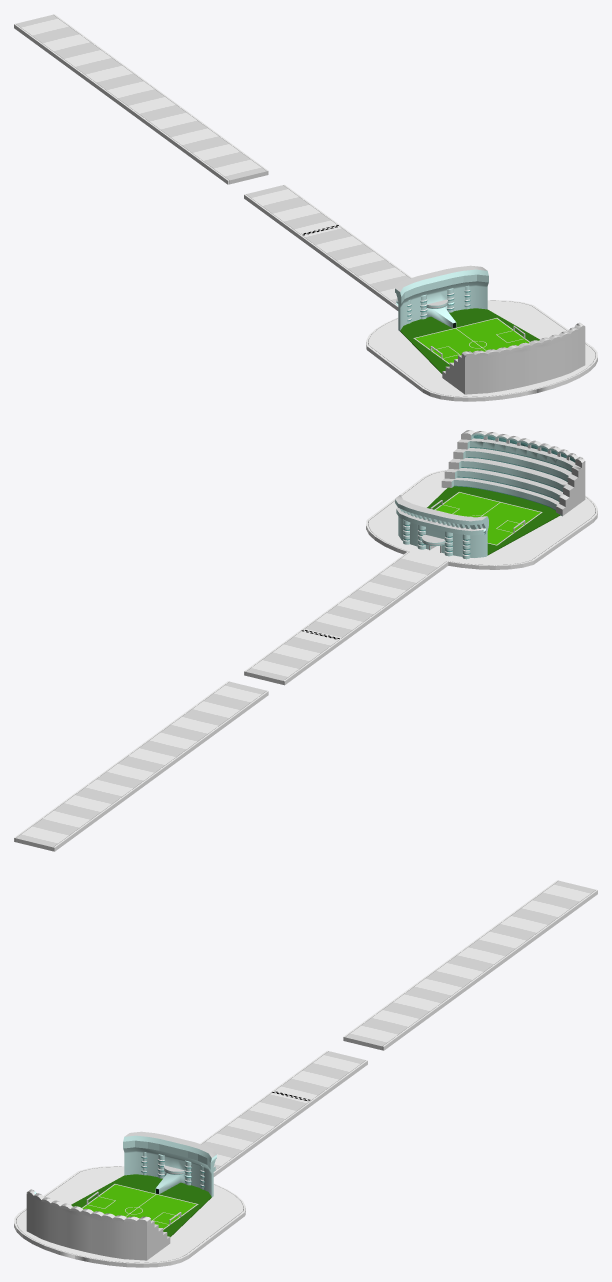
The model's file is stadyum.fbx.
The picture shows the model from 3 angles, top to bottom: view 1: azimuth 30°, elevation 25°; view 2: azimuth 150°, elevation 25°; view 3: azimuth 330°, elevation 25°; orthographic projection.
Parts seen in each view (by area): view 1: Yol Orjinal, Platform, Yol finish area, tribune, Field, outer wall; view 2: Yol Orjinal, tribune, Yol finish area, Platform, Field, outer wall; view 3: Yol Orjinal, Platform, Yol finish area, tribune, Field, outer wall.
Part boxes in pixels (<box>): Yol Orjinal: <box>14,14,268,184</box>; Platform: <box>366,300,597,401</box>; Yol finish area: <box>244,184,411,310</box>; tribune: <box>442,322,585,394</box>; Field: <box>400,308,539,373</box>; outer wall: <box>395,265,488,331</box>; Yol Orjinal: <box>14,681,268,851</box>; tribune: <box>441,430,585,516</box>; Yol finish area: <box>244,552,448,685</box>; Platform: <box>366,470,597,569</box>; Field: <box>427,486,560,555</box>; outer wall: <box>395,495,488,559</box>; Yol Orjinal: <box>343,880,597,1050</box>; Platform: <box>14,1166,245,1267</box>; Yol finish area: <box>200,1050,367,1176</box>; tribune: <box>26,1189,170,1260</box>; Field: <box>71,1174,211,1236</box>; outer wall: <box>123,1131,216,1197</box>.
Size of the model in its own units: 11487 by 2903 by 58733.
